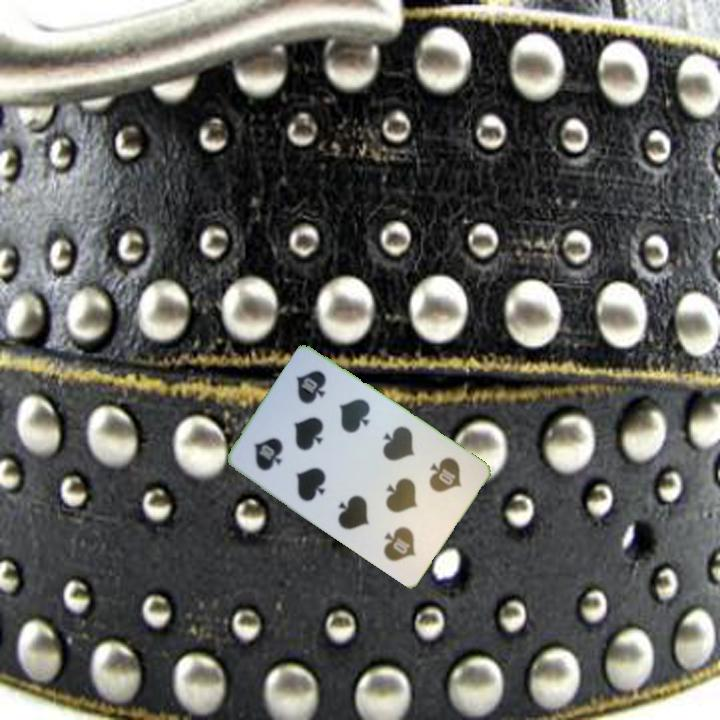s_10.png: (235, 405, 318, 491), (397, 440, 480, 525)
